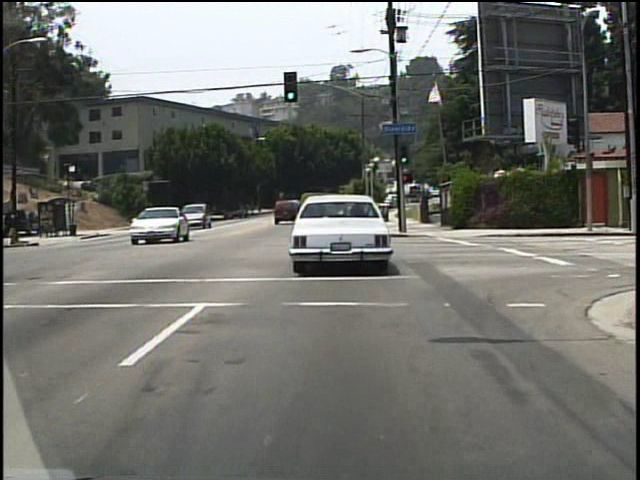person: (151, 210, 160, 228)
